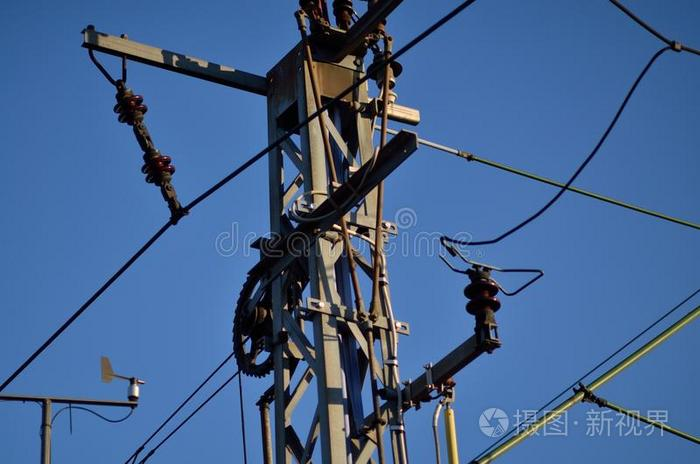insulator: (457, 279, 508, 317), (108, 90, 154, 125), (139, 152, 177, 187)
